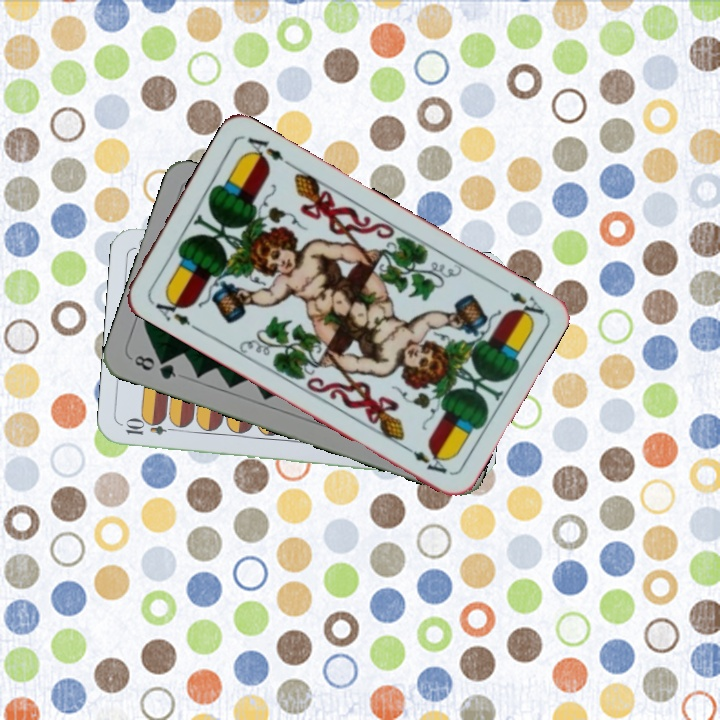E10: (121, 418, 181, 438)
EA: (492, 279, 546, 322), (151, 291, 200, 333)
G8: (127, 351, 179, 382)
